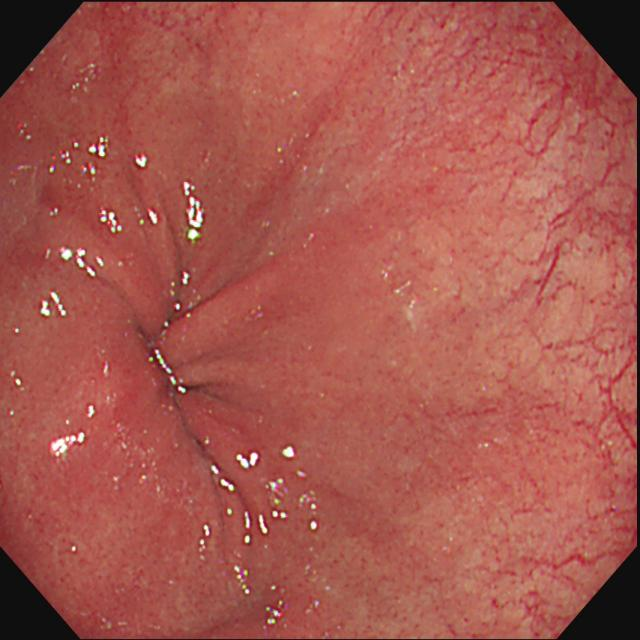I: (96, 257, 254, 463)
U: (197, 442, 318, 559), (47, 130, 111, 181), (45, 245, 105, 277), (152, 346, 189, 396), (182, 179, 207, 246), (262, 585, 287, 627), (169, 267, 191, 314), (50, 430, 86, 457), (94, 206, 123, 237), (41, 289, 68, 321), (233, 563, 256, 598), (139, 208, 164, 228), (134, 152, 152, 170)
